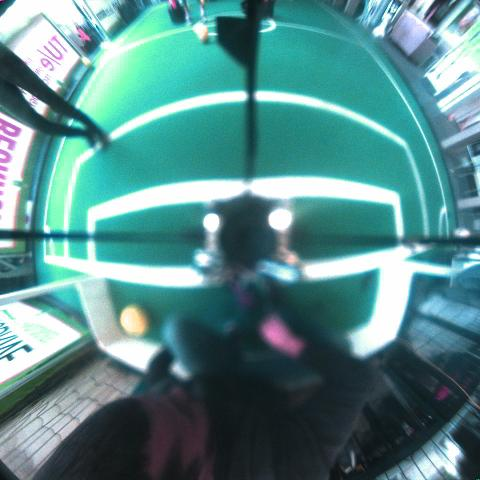ball: (120, 304, 152, 336), (197, 24, 209, 43), (453, 228, 469, 237), (81, 57, 93, 68)
goal: (0, 274, 103, 299), (380, 260, 455, 277)
person: (0, 40, 110, 150), (182, 0, 192, 24), (200, 1, 208, 23)
robot: (73, 20, 100, 52), (167, 0, 187, 25), (255, 0, 273, 17)
